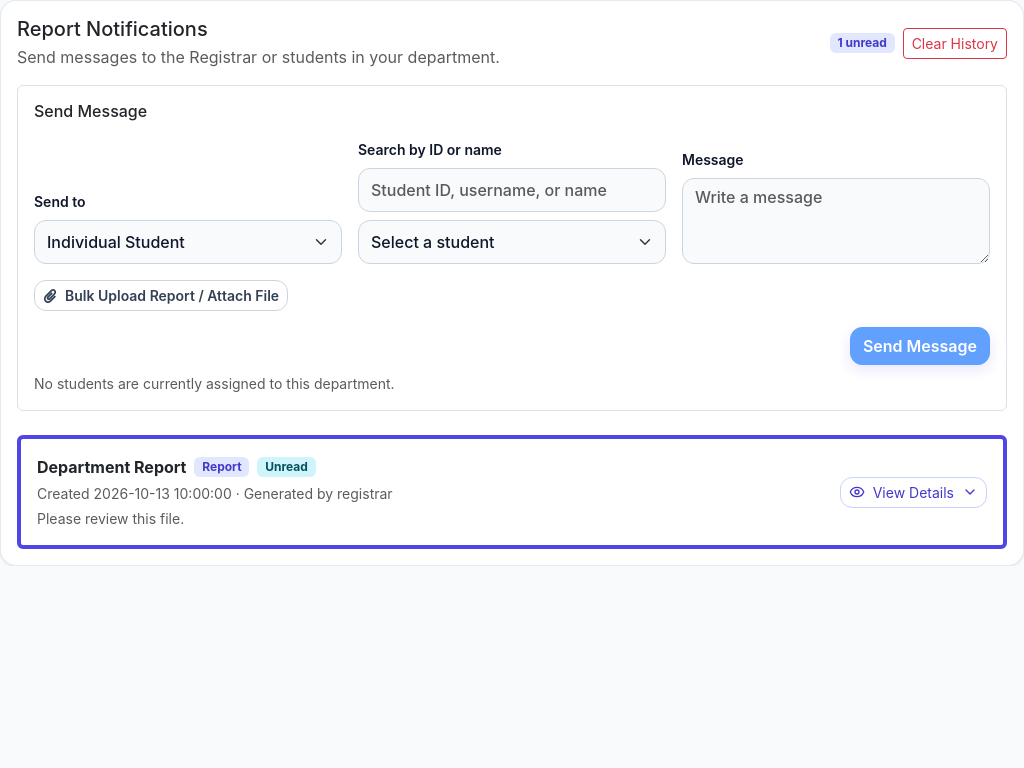
Reports attachment › permanently clears report history after confirmation
Expected: the text "Please review this file." is shown, [37,510,184,527]
Click the button "Clear History" at (955, 43), box [903,28,1007,58]
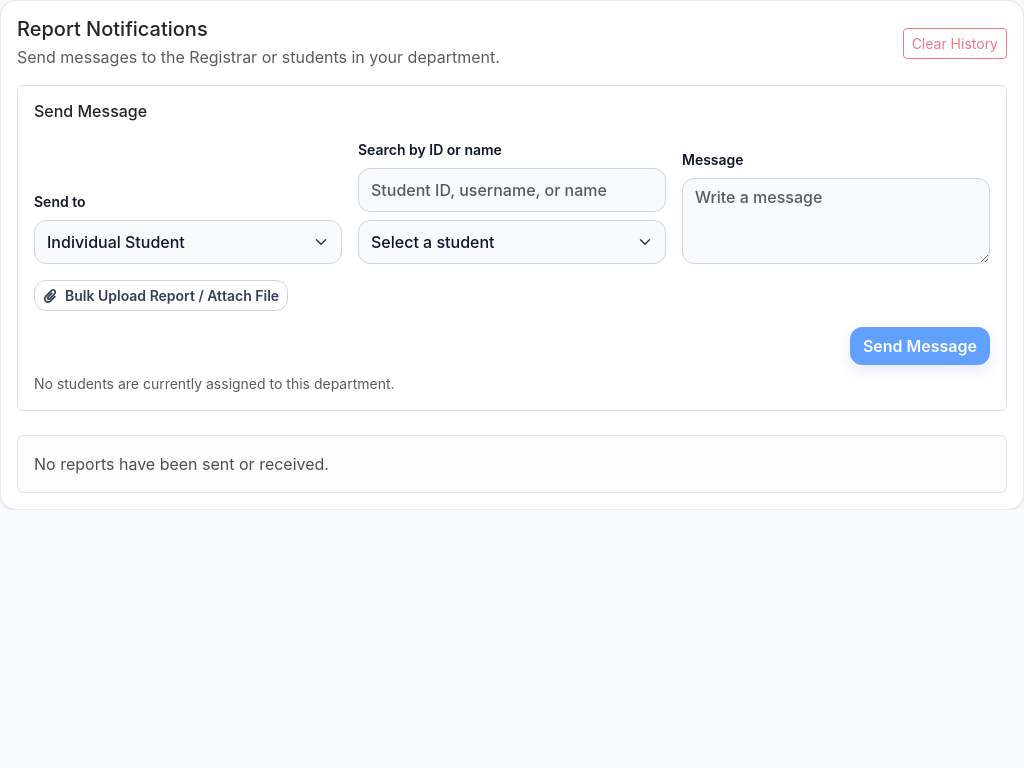
Expected: the text "No reports have been sent or received." is shown, [17,435,1007,493]
